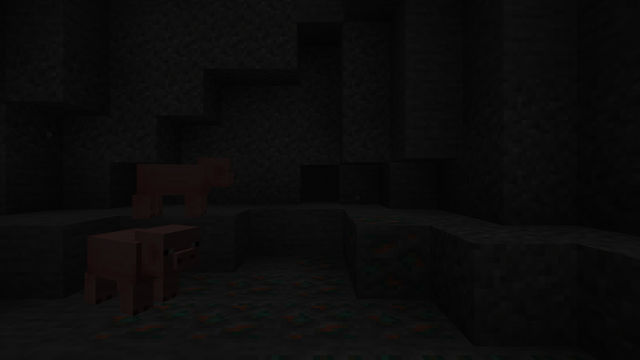cochons: (71, 226, 186, 315), (132, 162, 212, 219)
